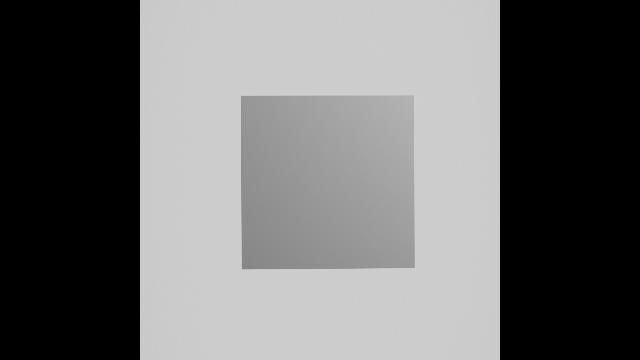Cube: (226, 78, 424, 278)
